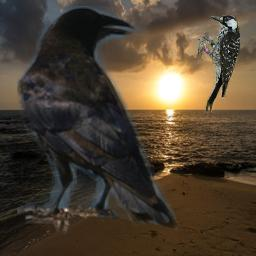Crow: (17, 6, 178, 234)
Woodpecker: (198, 15, 240, 113)
